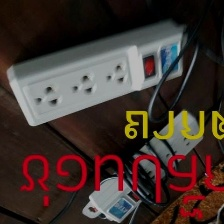three_eye_plug: (3, 13, 191, 130), (82, 105, 206, 222)
